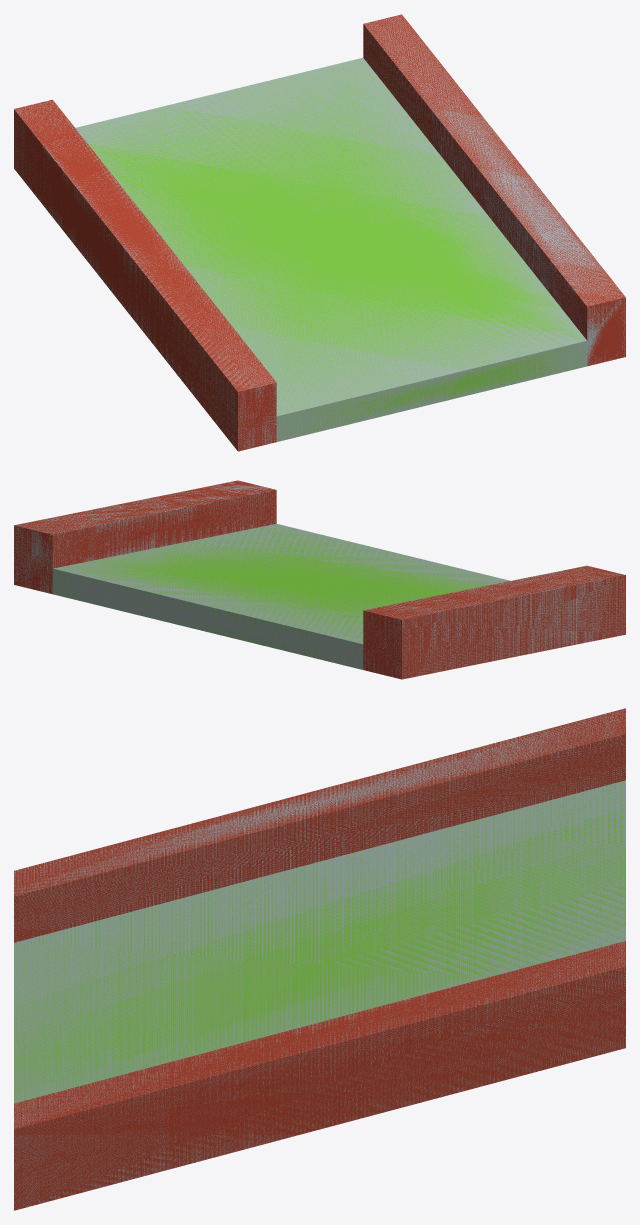
File: Ramp_2_01.obj
3 renders of one model, top to bottom at view 1: azimuth 30°, elevation 25°; view 2: azimuth 150°, elevation 25°; view 3: azimuth 270°, elevation 25°, orthographic. The views are drawn at different scales.
Visible parts, largest first — view 1: Mesh1 Ramp_2 Model; view 2: Mesh1 Ramp_2 Model; view 3: Mesh1 Ramp_2 Model.
Boxes of the visible parts, x1,y1,x2,y2 form: Mesh1 Ramp_2 Model: [14, 14, 625, 451]; Mesh1 Ramp_2 Model: [14, 480, 625, 679]; Mesh1 Ramp_2 Model: [14, 708, 625, 1210].
Size of the model in its own units: 3 by 1.32 by 3.
